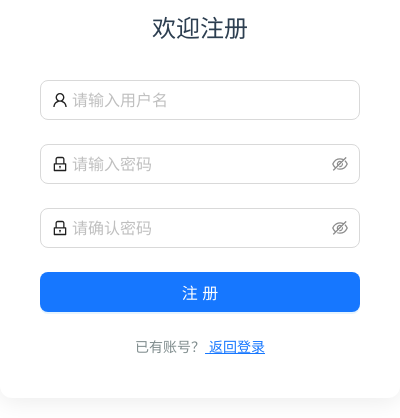
Test: RegisterForm › shows validation error on empty submit
The image size is (400, 418).
Click the button "注 册".
click(200, 292)  # box [40, 272, 360, 312]
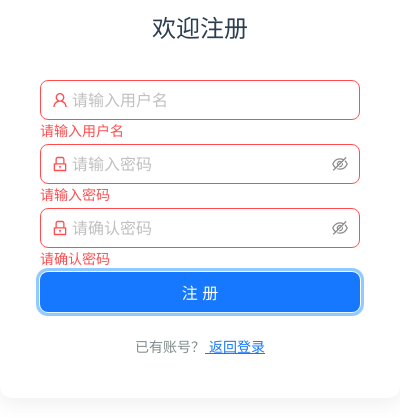
Check: the text "请输入用户名" is shown, box [40, 122, 124, 139]
Check: the text "请输入密码" is shown, box [40, 186, 110, 203]
Check: the text "请确认密码" is shown, box [40, 250, 110, 267]
